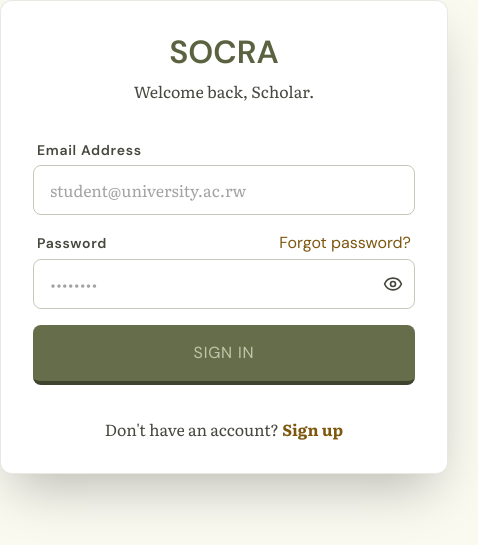
it: SignInForm › shows validation error for short password
In the field with placeholder "student@university.ac.rw": {"x": 224, "y": 190} [33, 165, 415, 215], type "test@alu.rw"
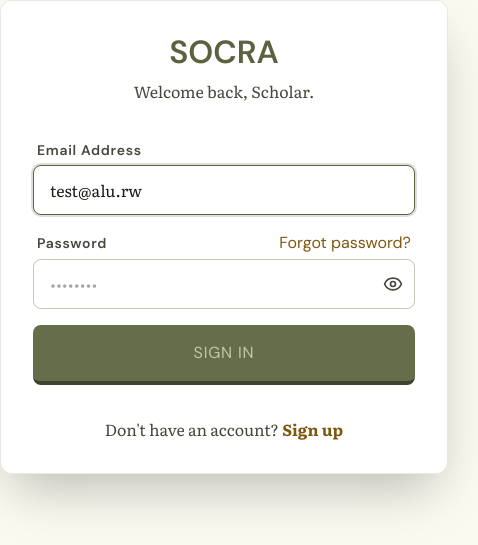
In the password field with placeholder "••••••••": {"x": 224, "y": 284} [33, 259, 415, 309], type "short"
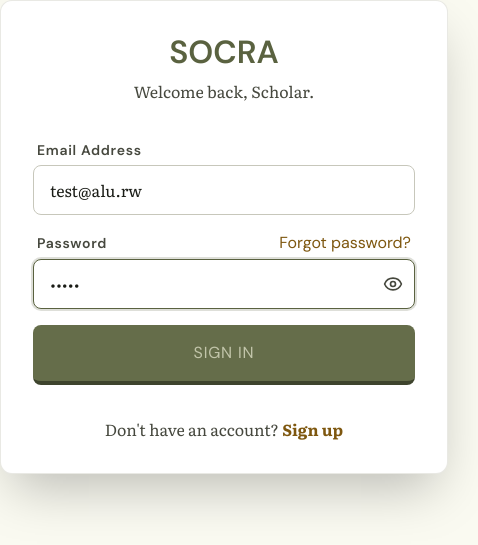
Click the button "Sign In": {"x": 224, "y": 355} [33, 325, 415, 385]
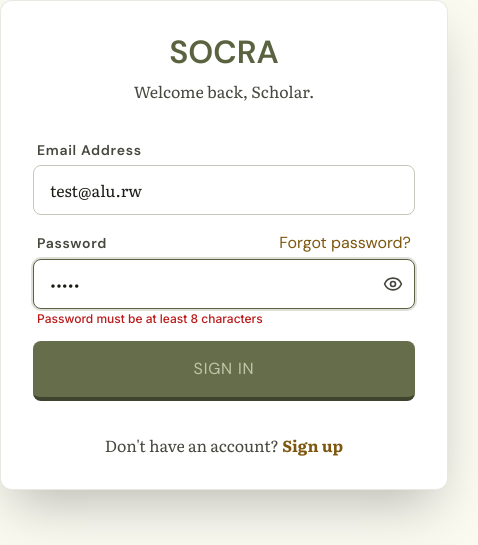
Now the text "Password must be at least 8 characters" is shown, box [37, 311, 263, 326]
